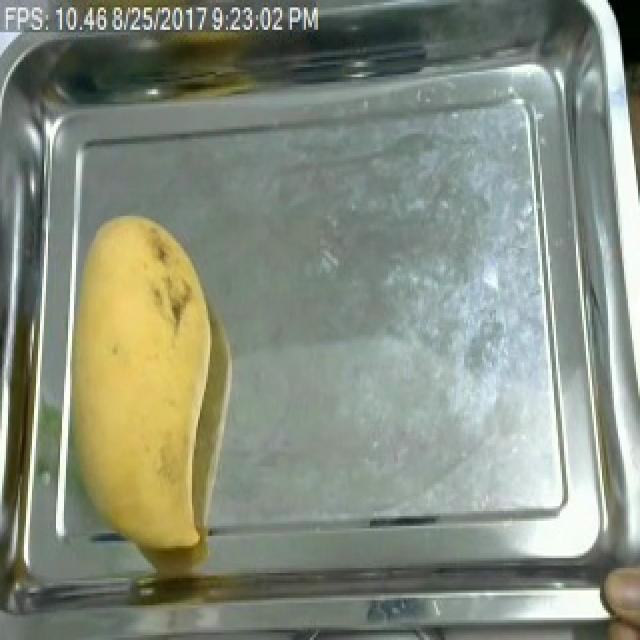fruit: (48, 204, 248, 570), (592, 548, 640, 640)
